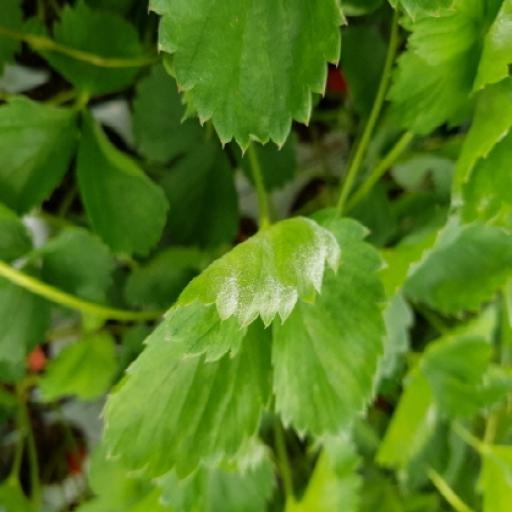Powdery Mildew Leaf: (170, 216, 350, 365)
